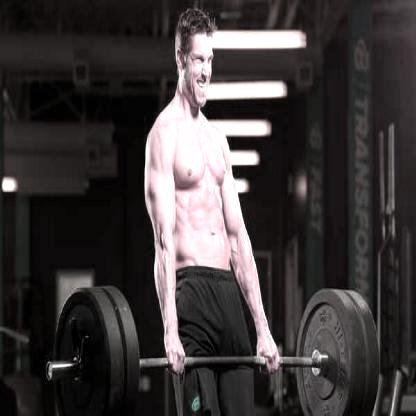Barbell: (45, 360, 56, 382)
